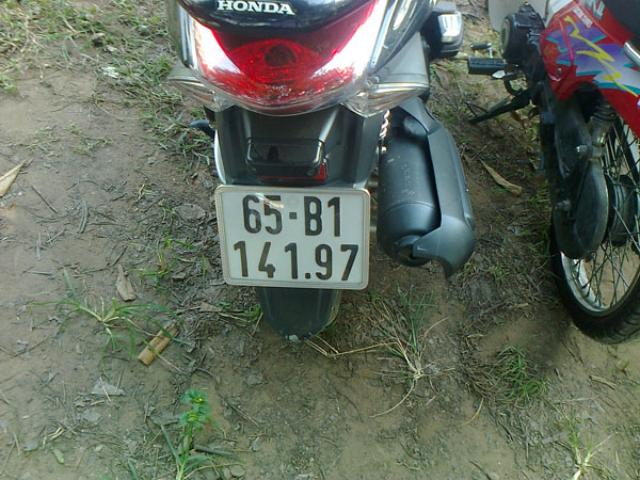plate: (221, 186, 365, 286)
